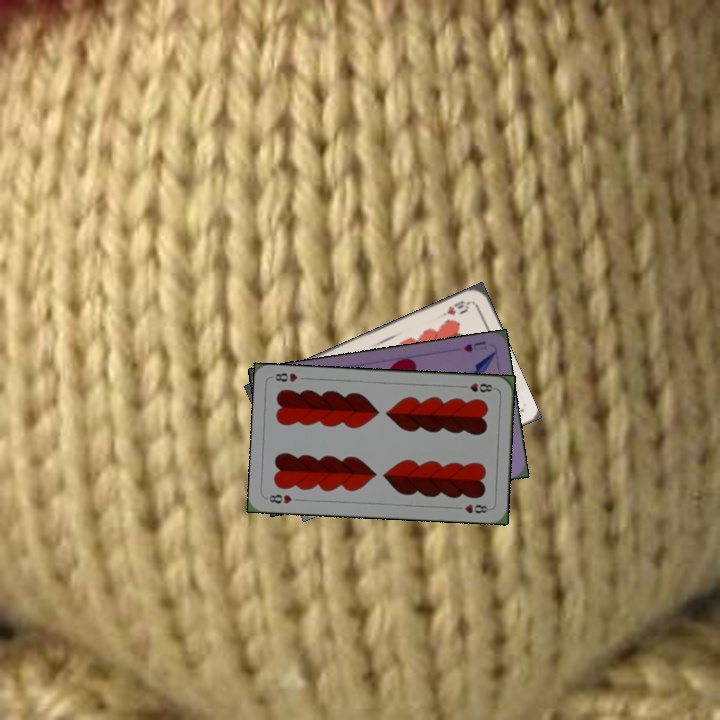H10: (443, 296, 474, 318)
H8: (457, 379, 498, 395), (263, 490, 294, 506)
HU: (460, 337, 489, 355)
